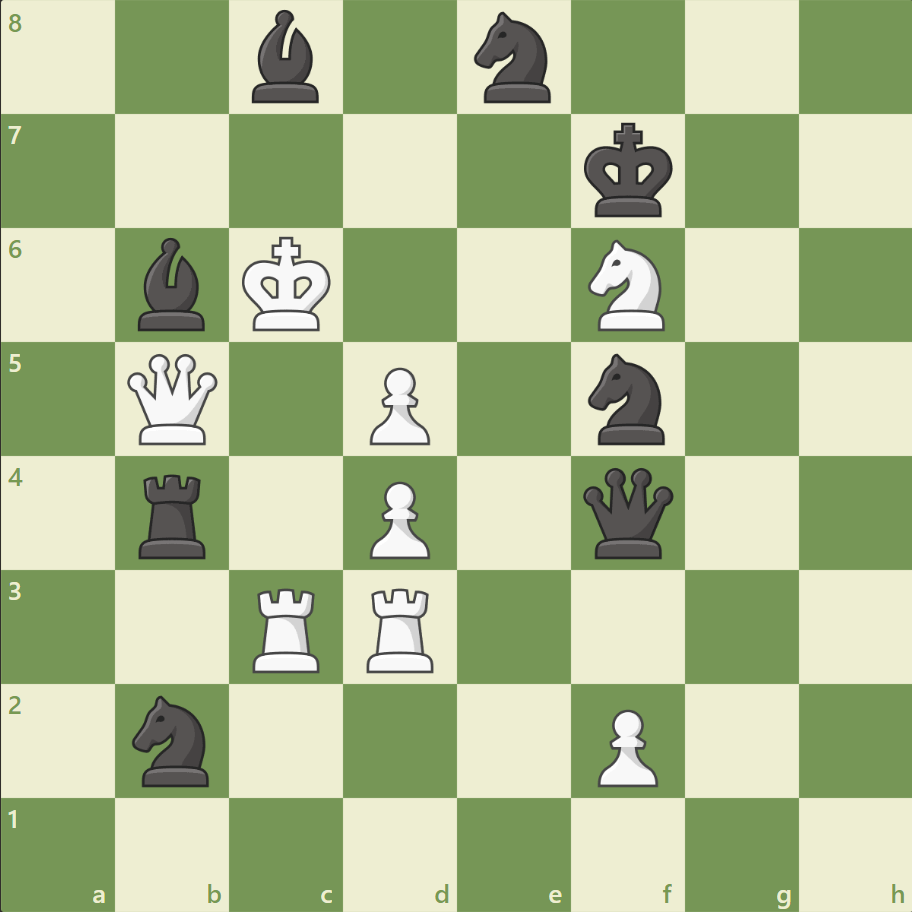K: (238, 231, 338, 339)
N: (579, 234, 676, 337)
P: (361, 359, 435, 450), (361, 473, 435, 564), (588, 700, 662, 791)
Q: (124, 349, 223, 449)
R: (246, 579, 329, 676), (360, 579, 442, 676)
b: (244, 6, 328, 109), (131, 233, 215, 336)
k: (579, 117, 679, 225)
n: (124, 688, 222, 791), (465, 7, 562, 110), (579, 348, 676, 450)
q: (578, 463, 677, 562)
r: (133, 466, 215, 563)
